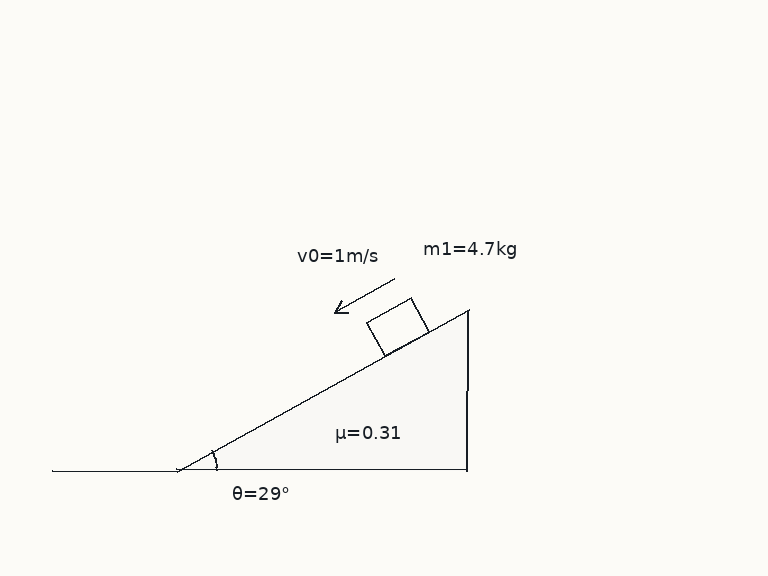block: (364, 296, 431, 357)
ramp: (175, 307, 469, 472)
